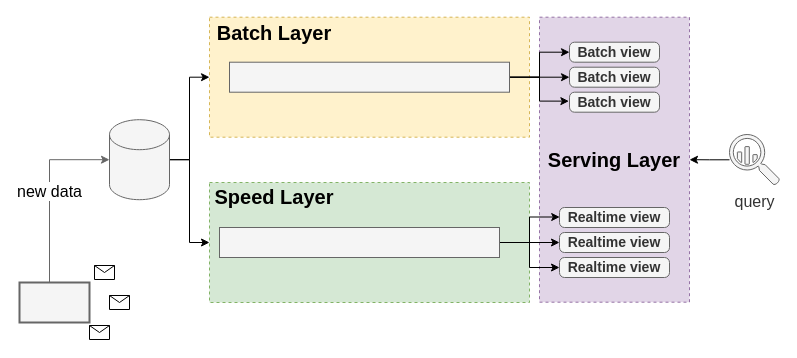
This 797x358 diagram has some shape labels left out. Here are the shapes that lost their labels. From the top down, the box of each, then its label:
(228, 61, 510, 92): functions(all data)
(218, 226, 500, 258): functions(realtime view, new data)
(18, 281, 90, 323): Event
